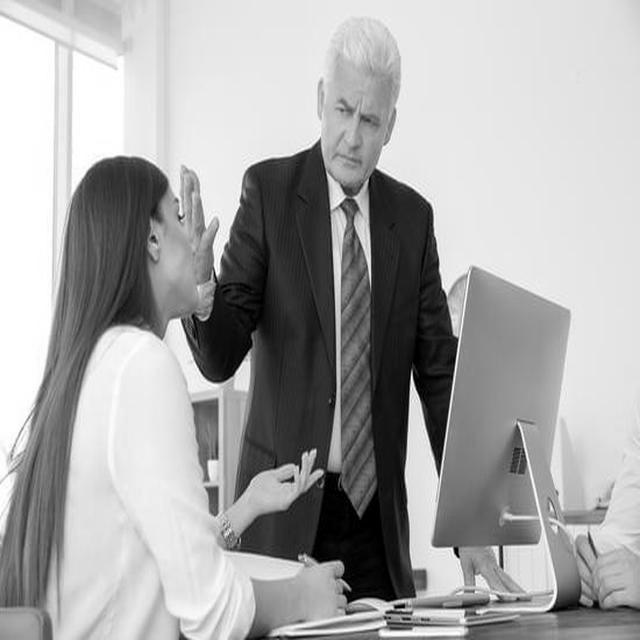Angry: (320, 71, 393, 184)
